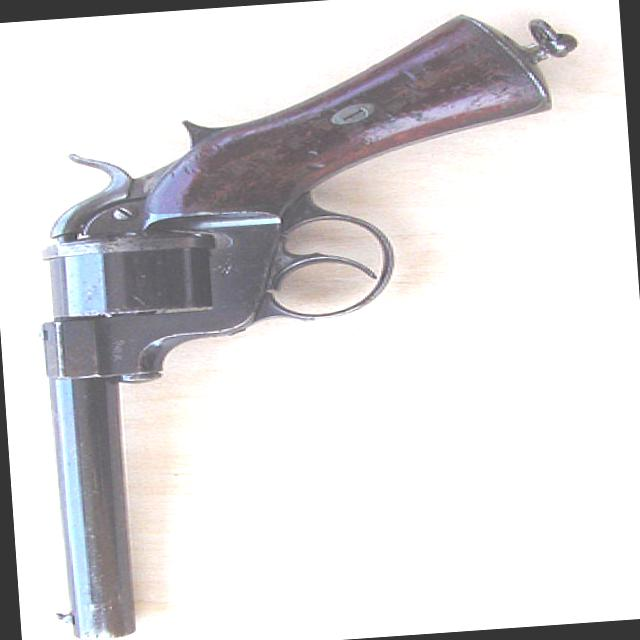handgun: (9, 12, 577, 639)
